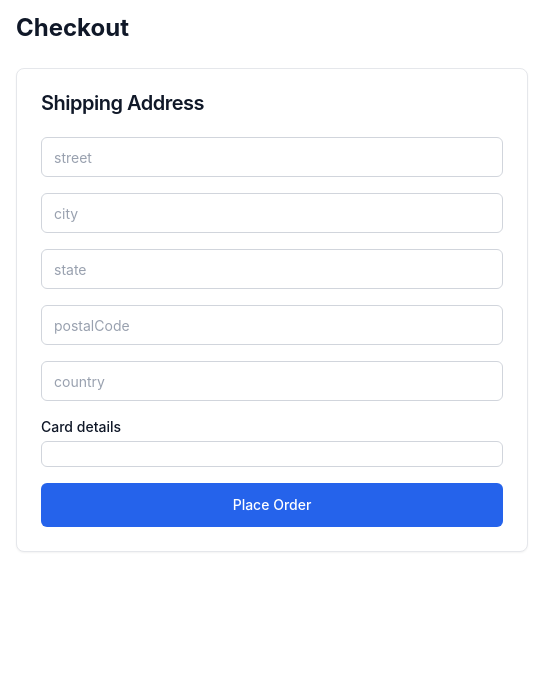
CheckoutPage › does not submit and shows errors when fields are empty
The width and height of the screenshot is (545, 689).
Click the button "Place Order" at (272, 505), box [41,483,503,527]
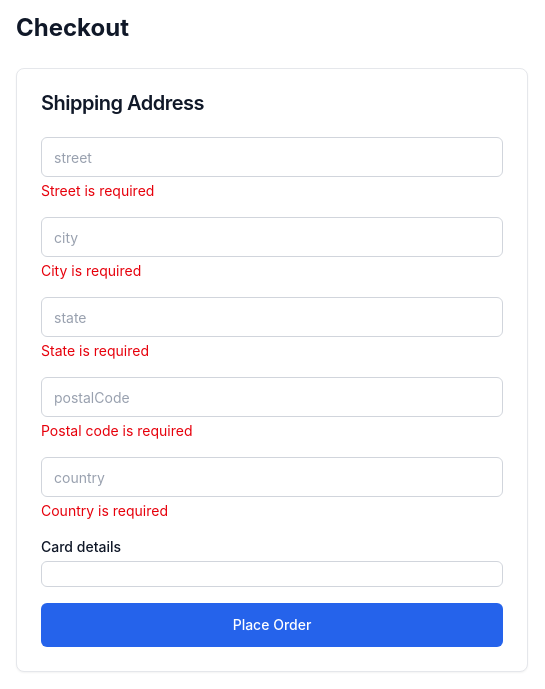
Expected: the text "Street is required" is shown, [41,182,154,199]
